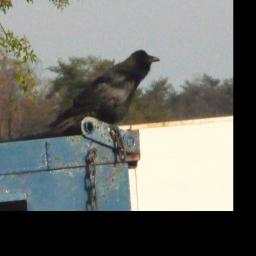Crow: (49, 48, 161, 134)
